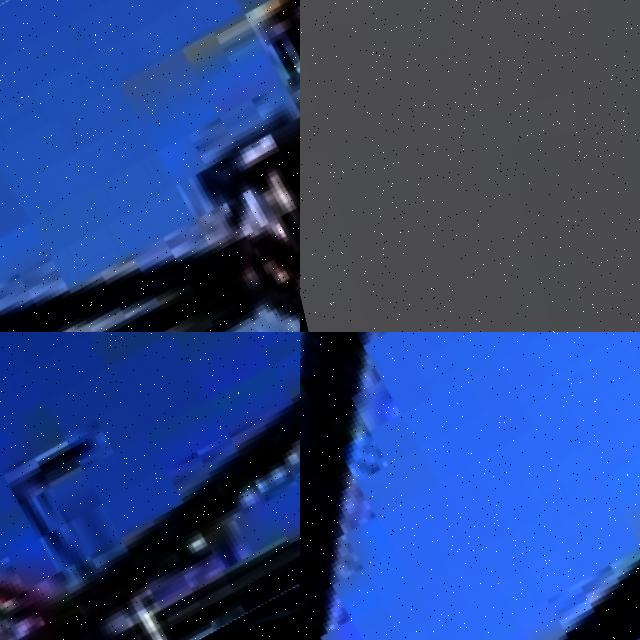drone: (300, 332, 640, 640), (0, 0, 300, 332), (0, 332, 300, 640)
